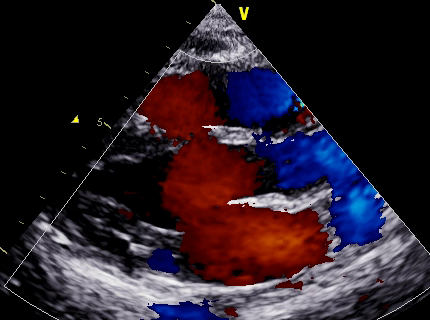AR: (160, 136, 270, 206)
